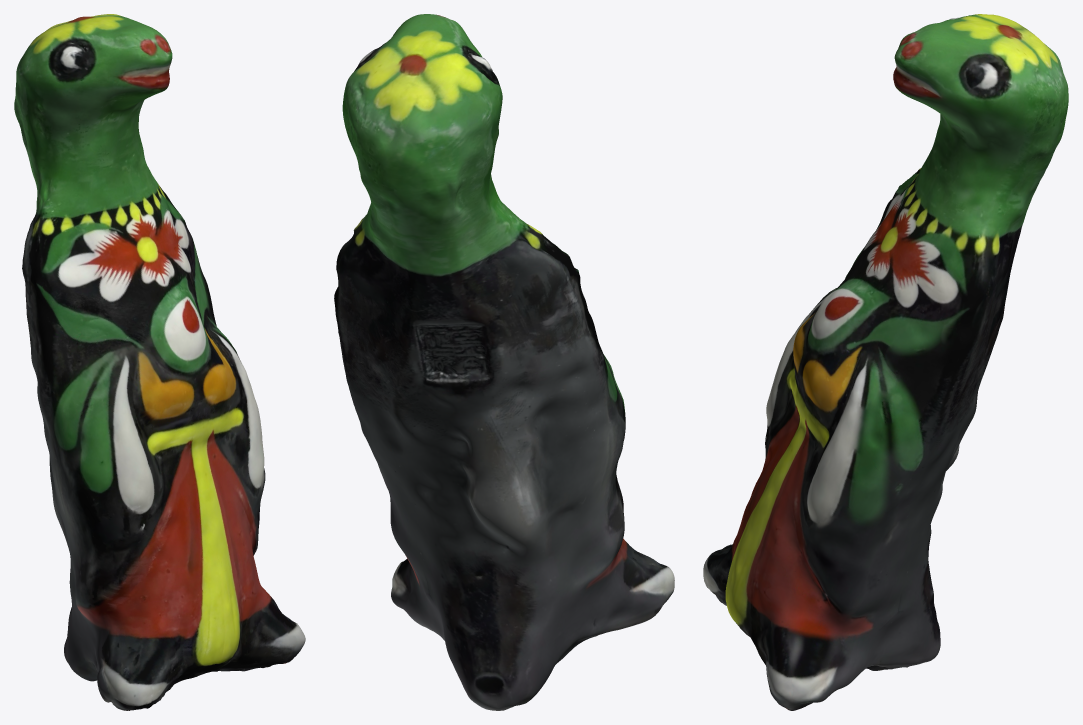
3 views of the same model, side by side, from view 1: azimuth 30°, elevation 25°; view 2: azimuth 150°, elevation 25°; view 3: azimuth 270°, elevation 25° (orthographic). The views are drawn at different scales.
Bounding box in the file's own units: 0.3211 × 0.8553 × 0.43.
Materials: 1 (1 with a texture image).
